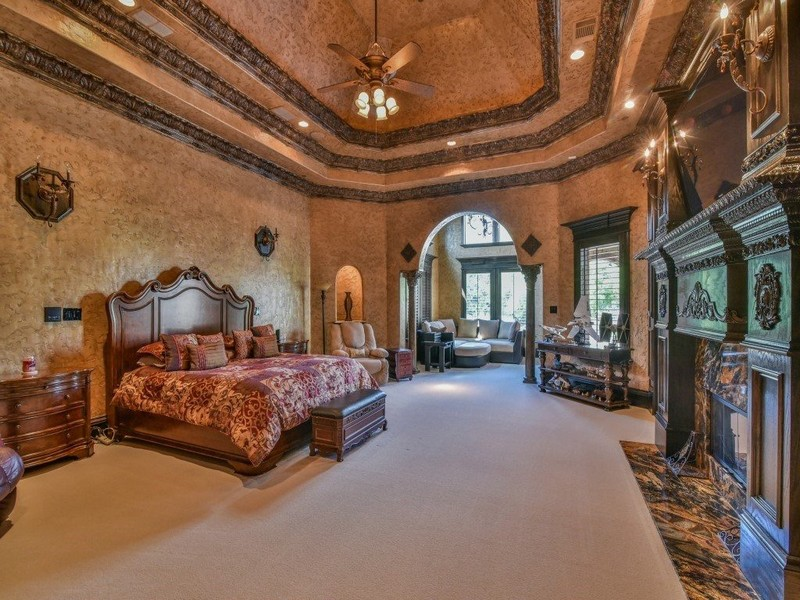bed: (105, 266, 377, 485)
sofa: (419, 313, 524, 378), (330, 316, 393, 391)
stool: (4, 367, 98, 475), (536, 335, 634, 413), (389, 347, 417, 388)
